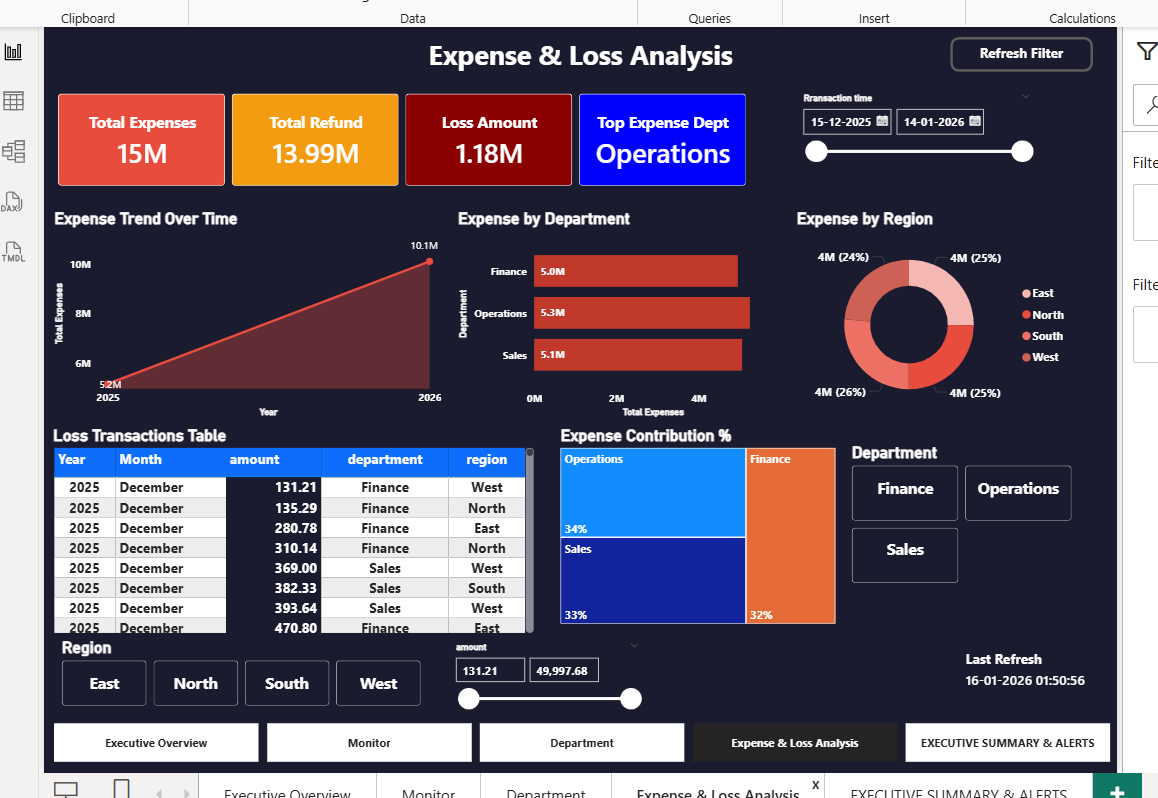

Layout of this report page (visuals, bound fields, positions):
{"tool":"powerbi","page":{"name":"Expense & Loss Analysis","canvas":[1280,890],"ordinal":3},"visuals":[{"type":"shape","box":[0,0,1280.3,63.1],"z":0},{"type":"cardVisual","fields":{"Data":["financial_transactions.Total Expenses","financial_transactions.Total Refund","financial_transactions.Loss Amount","financial_transactions.Top Expense Dept"]},"box":[0,62.5,856.8,144.9],"z":1000},{"type":"pageNavigator","box":[11.9,838.1,1260.1,38.8],"z":2000},{"type":"actionButton","box":[1081.8,12.1,170.2,41.6],"z":3000},{"type":"cardVisual","fields":{"Data":["financial_transactions.Last Refresh"]},"box":[1070.7,729.2,208.8,73.1],"z":4000},{"type":"barChart","title":"Expense by Department","fields":{"Category":["financial_transactions.department"],"Y":["financial_transactions.Total Expenses"]},"box":[489.3,217.2,395.4,253.4],"z":5000},{"type":"advancedSlicerVisual","title":"Region","fields":{"Values":["financial_transactions.region"]},"box":[16.4,729.2,441.4,86.5],"z":6000},{"type":"slicer","title":"Transaction type","fields":{"Values":["financial_transactions.amount"]},"box":[478.7,727.8,243.1,89.5],"z":7000},{"type":"slicer","title":"Region","fields":{"Values":["financial_transactions.transaction_time"]},"box":[893.3,73.1,295.3,102.9],"z":8000},{"type":"donutChart","title":"Expense by Region","fields":{"Category":["financial_transactions.region"],"Y":["financial_transactions.Total Expenses"]},"box":[892.8,217.2,337.8,253.4],"z":9000},{"type":"advancedSlicerVisual","title":"Department","fields":{"Values":["financial_transactions.department"]},"box":[958.9,496.6,272.9,173],"z":10000},{"type":"lineChart","title":"Expense Trend Over Time","fields":{"Y":["financial_transactions.Total Expenses"],"Category":["financial_transactions.transaction_time.Variation.Date Hierarchy.Year","financial_transactions.transaction_time.Variation.Date Hierarchy.Month"]},"box":[7.1,217.4,471.8,252.9],"z":11000},{"type":"tableEx","title":"Loss Transactions Table","fields":{"Values":["financial_transactions.transaction_time.Variation.Date Hierarchy.Year","financial_transactions.transaction_time.Variation.Date Hierarchy.Month","financial_transactions.amount","financial_transactions.department","financial_transactions.region"]},"box":[6,475.7,583.1,252],"z":12000},{"type":"treemap","title":"Expense Contribution %","fields":{"Group":["financial_transactions.department"],"Values":["financial_transactions.Expense %"]},"box":[611.3,475.9,337.8,241.3],"z":13000}]}

Visuals, with their boxes on the page's 1280x890 design canvas (x1, y1, x2, y2). These are canvas units, not pixel positions in the 1158x798 screenshot, which may show the page scaled, cropped or inside an application window:
shape: l=0, t=0, r=1280, b=63
cardVisual - financial_transactions.Total Expenses x financial_transactions.Total Refund: l=0, t=62, r=857, b=207
pageNavigator: l=12, t=838, r=1272, b=877
actionButton: l=1082, t=12, r=1252, b=54
cardVisual - financial_transactions.Last Refresh: l=1071, t=729, r=1280, b=802
"Expense by Department" barChart: l=489, t=217, r=885, b=471
"Region" advancedSlicerVisual: l=16, t=729, r=458, b=816
"Transaction type" slicer: l=479, t=728, r=722, b=817
"Region" slicer: l=893, t=73, r=1189, b=176
"Expense by Region" donutChart: l=893, t=217, r=1231, b=471
"Department" advancedSlicerVisual: l=959, t=497, r=1232, b=670
"Expense Trend Over Time" lineChart: l=7, t=217, r=479, b=470
"Loss Transactions Table" tableEx: l=6, t=476, r=589, b=728
"Expense Contribution %" treemap: l=611, t=476, r=949, b=717
